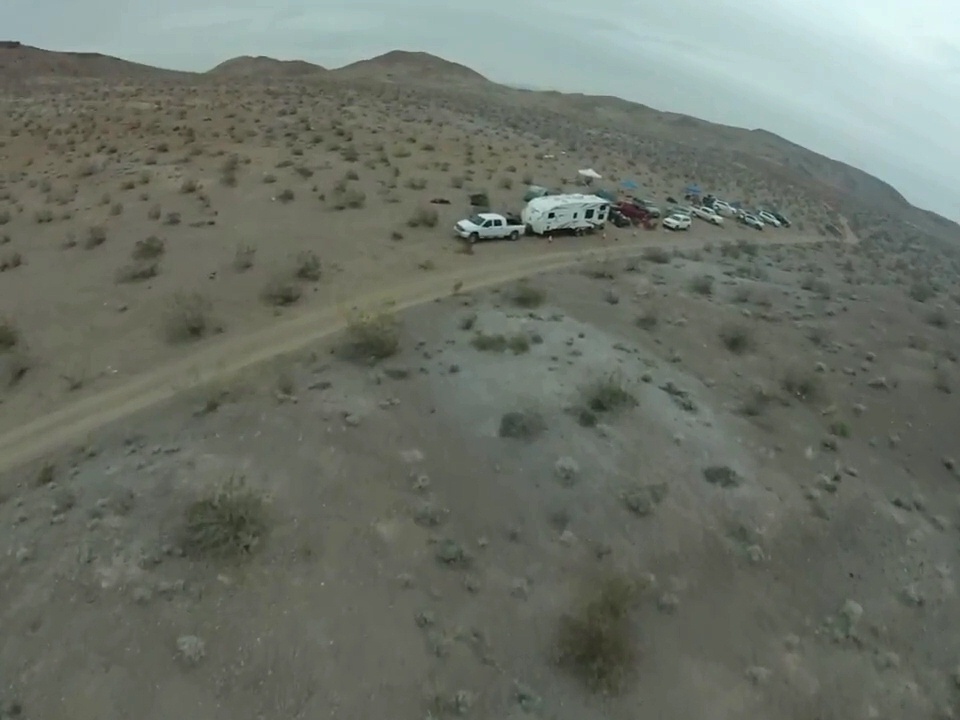araba: (688, 203, 728, 224), (663, 212, 694, 233), (739, 208, 767, 230)
kamyonet: (448, 211, 526, 242)
otobus: (524, 193, 609, 235)
